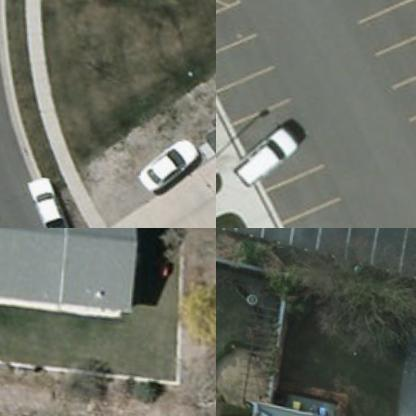car: (218, 112, 300, 194), (124, 132, 200, 200)
pickup: (10, 172, 75, 227)
